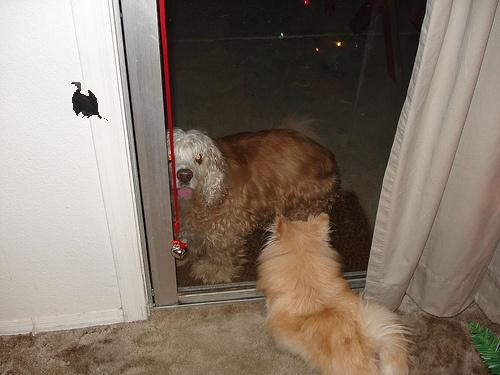tampered: (72, 83, 126, 121)
